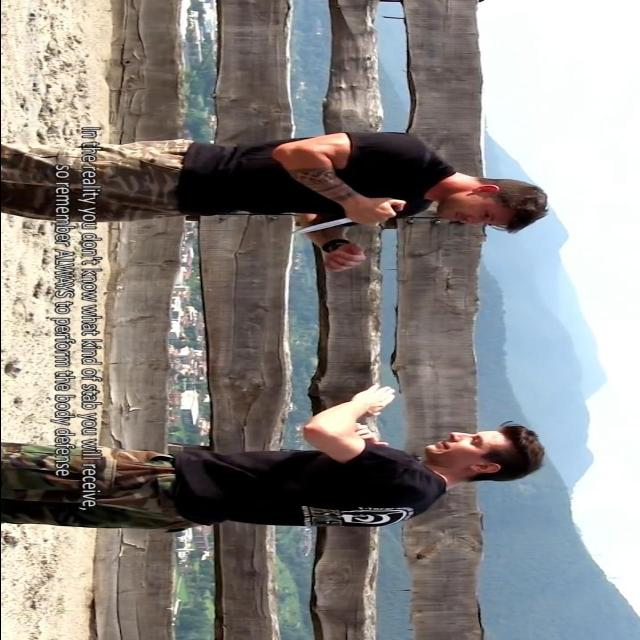Sharp-Object: (282, 198, 408, 238)
